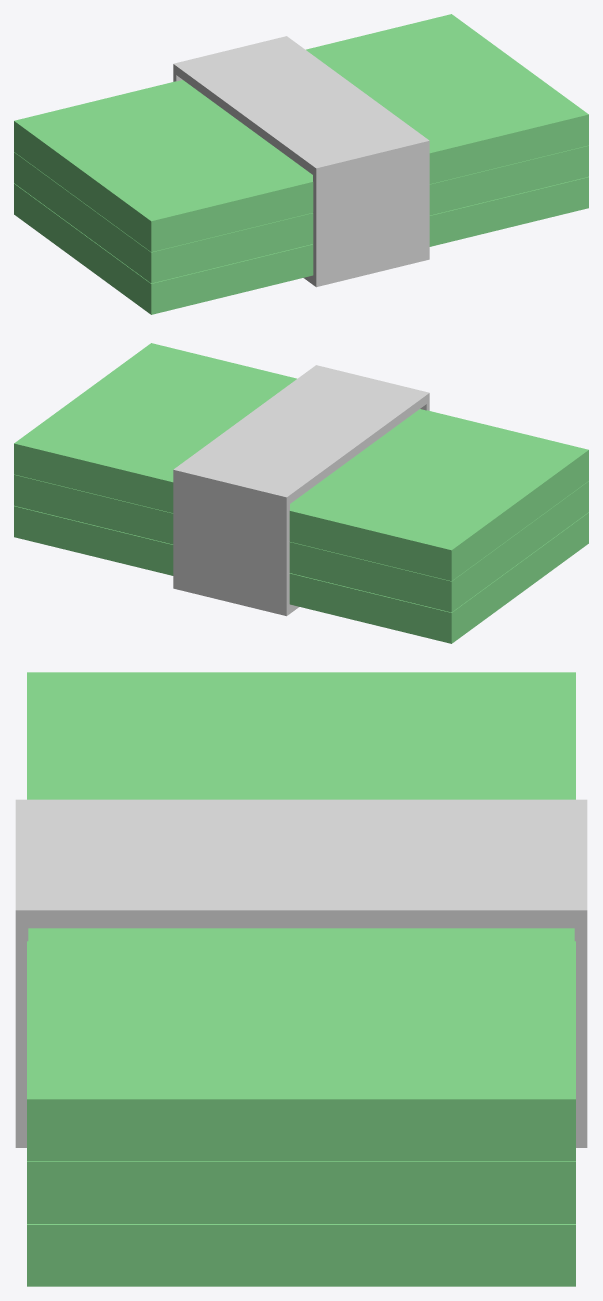
Rendered from money.fbx.
3 views of the same model, one above another, from view 1: azimuth 30°, elevation 25°; view 2: azimuth 150°, elevation 25°; view 3: azimuth 270°, elevation 25° (orthographic). The views are drawn at different scales.
Parts seen in each view (by area): view 1: Money3, Wrap, Money, Money2; view 2: Money3, Wrap, Money, Money2; view 3: Money3, Wrap, Money, Money2.
Part boxes in pixels (left/top/right/bottom): Money3: left=14, top=14, right=588, bottom=252; Wrap: left=173, top=36, right=429, bottom=287; Money: left=14, top=177, right=588, bottom=314; Money2: left=14, top=145, right=588, bottom=283; Money3: left=14, top=343, right=588, bottom=581; Wrap: left=173, top=365, right=429, bottom=616; Money: left=14, top=506, right=588, bottom=643; Money2: left=14, top=474, right=588, bottom=612; Money3: left=27, top=672, right=575, bottom=1161; Wrap: left=15, top=799, right=587, bottom=1147; Money: left=27, top=1224, right=575, bottom=1286; Money2: left=27, top=1161, right=575, bottom=1223.
Size of the model in its own units: 771 by 200 by 436.
